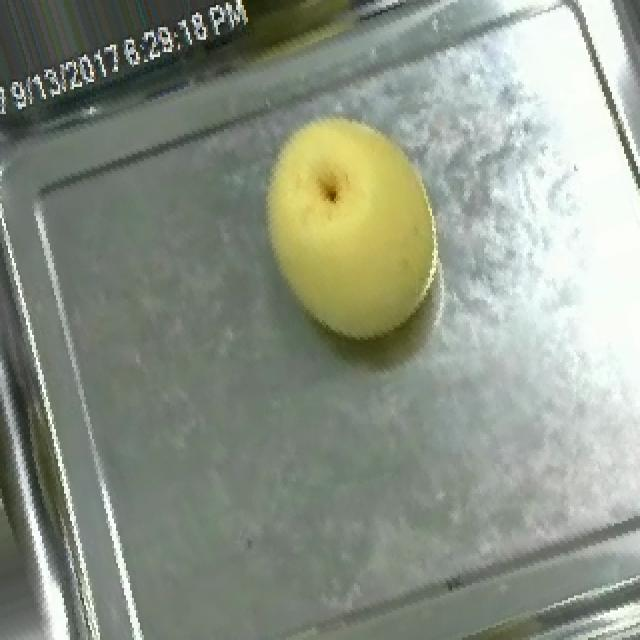Fruit: (228, 84, 472, 370)
